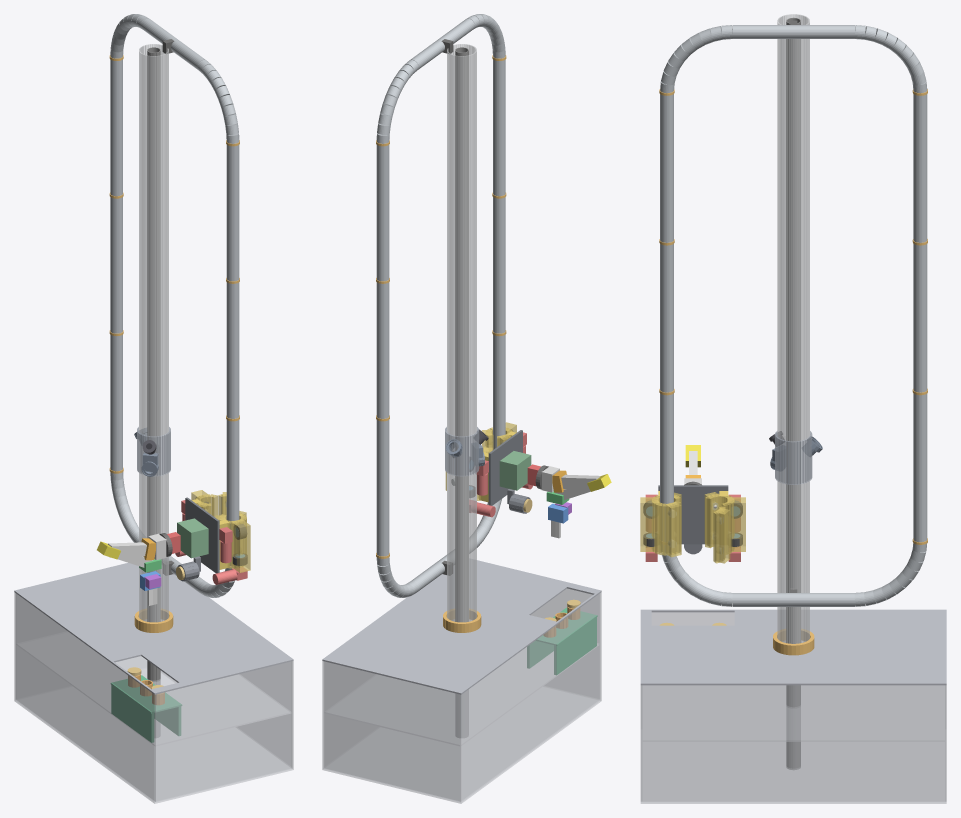
Rendered from transplant-seedling-step1-pick-v7.glb.
3 views of the same model, side by side, from view 1: azimuth 30°, elevation 25°; view 2: azimuth 150°, elevation 25°; view 3: azimuth 270°, elevation 25° (orthographic). The views are drawn at different scales.
Bounding box in the file's own units: 0.4877 × 1.9 × 0.701.
